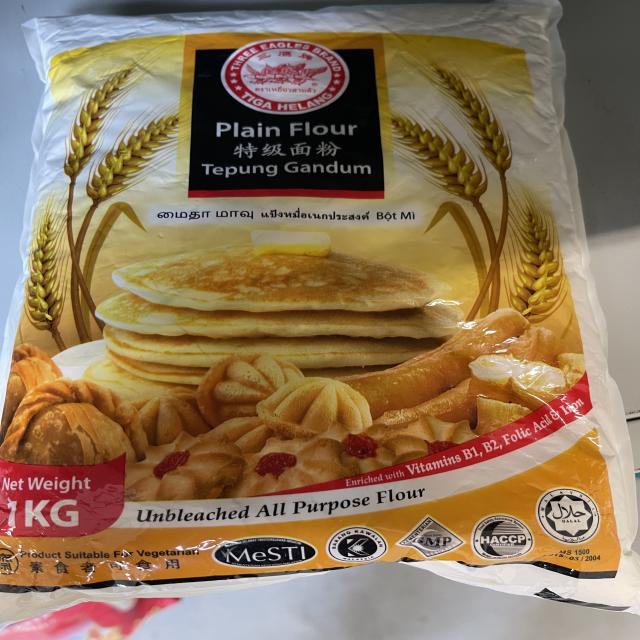object_name: (15, 11, 605, 591)
